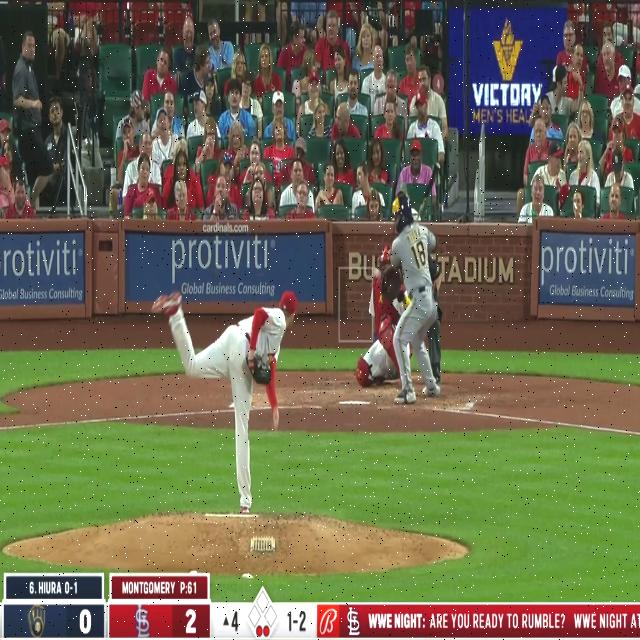baseball: (372, 266, 382, 280)
